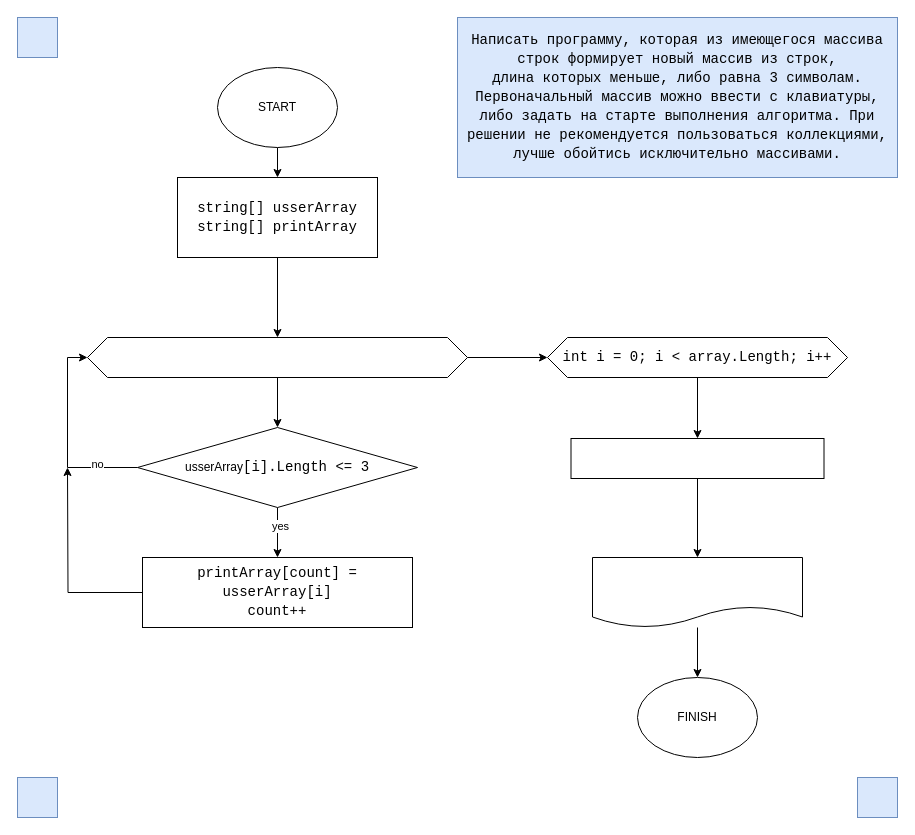
The diagram is 915 pixels wide and 835 high, and some of its shapes have lost their labels. Each missing label, with the centre of its shape:
Console.Write($"{array[i]} "): the point at 697,458
int i = 0; i < usserArray.Length; i++: the point at 277,357
PrintArray(printArray): the point at 697,592
